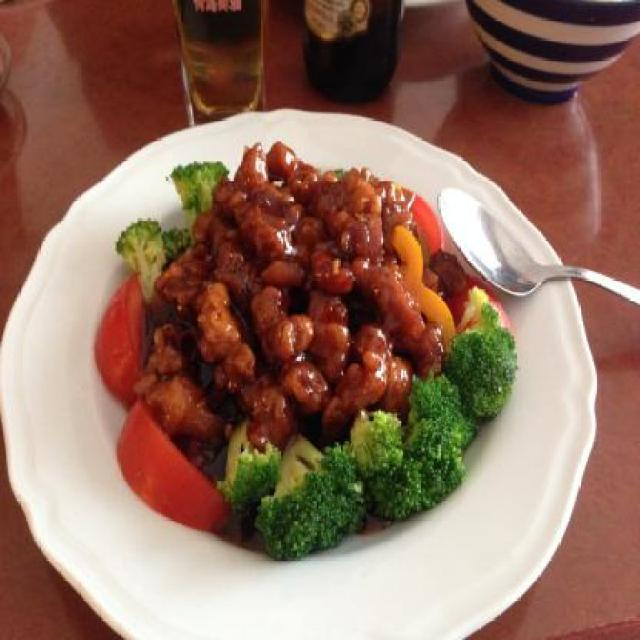Broccoli: (218, 288, 518, 560), (117, 220, 172, 302), (170, 157, 228, 216)
